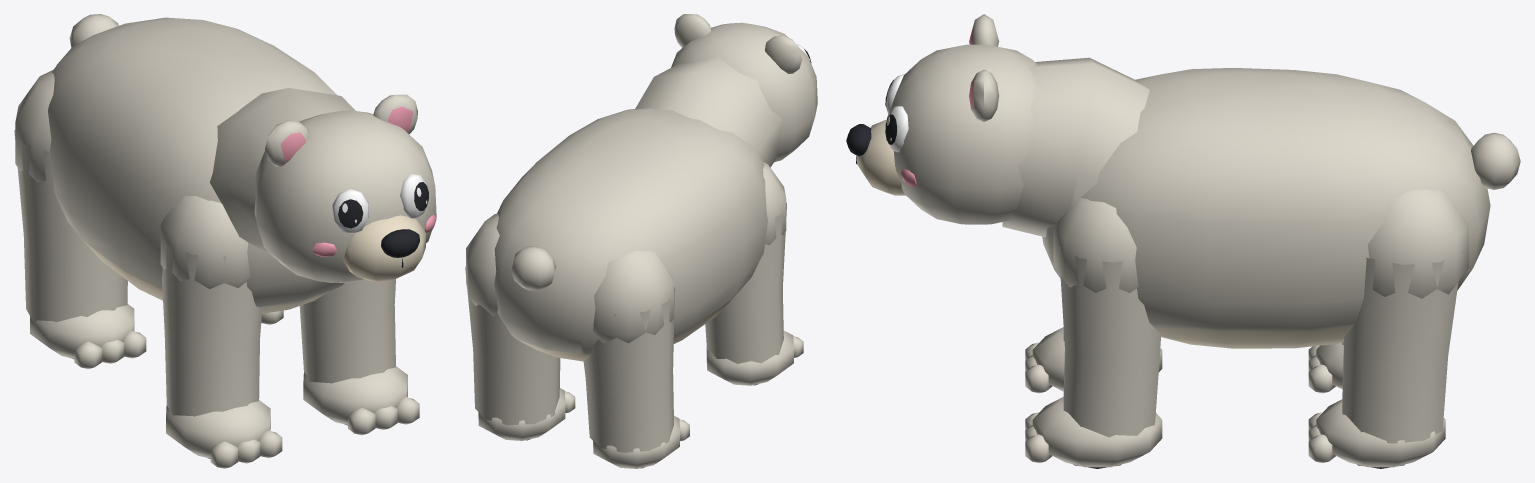
The model's file is polar_bear_char.glb.
The picture shows the model from 3 angles, left to right: view 1: azimuth 30°, elevation 25°; view 2: azimuth 150°, elevation 25°; view 3: azimuth 270°, elevation 25°; orthographic projection. The views are drawn at different scales.
Visible parts, largest first — view 1: body, head, leg_fr, leg_br, leg_fl; view 2: body, leg_br, head, leg_bl, leg_fr; view 3: body, head, leg_bl, leg_fl, leg_fr, leg_br.
Boxes of the visible parts, x1=… form: body: x1=48, y1=14, x2=344, y2=313; head: x1=210, y1=88, x2=436, y2=282; leg_fr: x1=160, y1=196, x2=282, y2=468; leg_br: x1=14, y1=69, x2=146, y2=369; leg_fl: x1=299, y1=279, x2=419, y2=435; body: x1=494, y1=108, x2=767, y2=361; leg_br: x1=583, y1=251, x2=689, y2=468; head: x1=635, y1=14, x2=817, y2=167; leg_bl: x1=465, y1=213, x2=575, y2=440; leg_fr: x1=705, y1=162, x2=803, y2=385; body: x1=1042, y1=68, x2=1520, y2=348; head: x1=846, y1=14, x2=1149, y2=237; leg_bl: x1=1308, y1=188, x2=1468, y2=468; leg_fl: x1=1025, y1=197, x2=1162, y2=468; leg_fr: x1=1025, y1=327, x2=1162, y2=393; leg_br: x1=1308, y1=342, x2=1343, y2=393.
Bounding box in the file's own units: 0.75 × 1.1 × 1.78.
